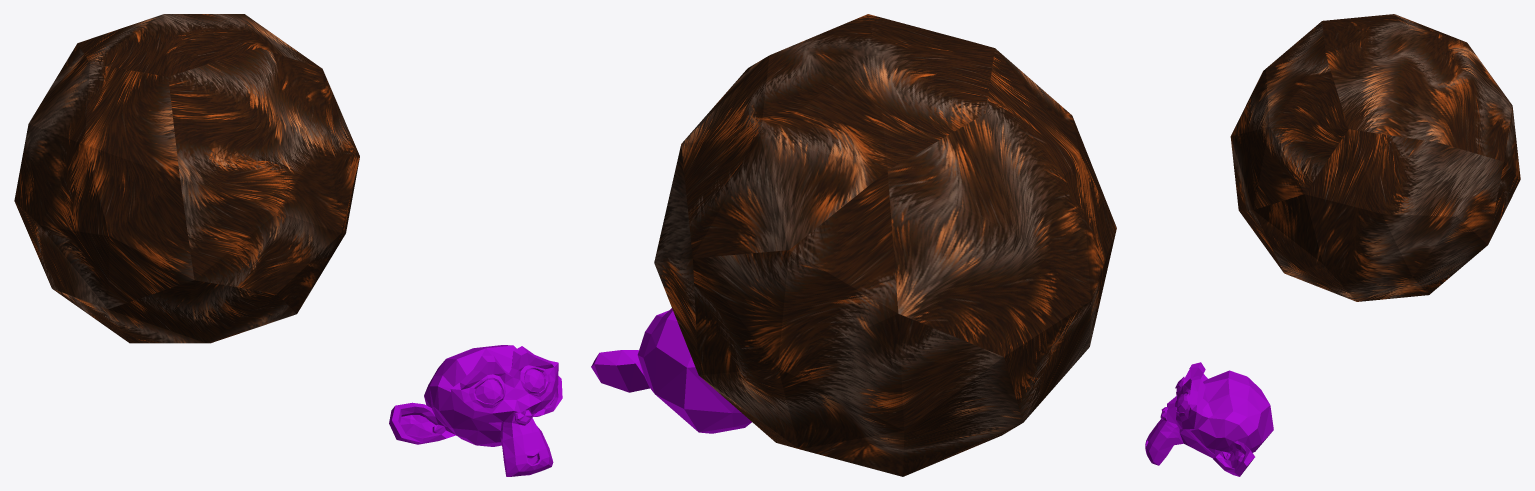
The model's file is ball_09.dae.
The picture shows the model from 3 angles, left to right: view 1: azimuth 30°, elevation 25°; view 2: azimuth 150°, elevation 25°; view 3: azimuth 270°, elevation 25°; orthographic projection. The views are drawn at different scales.
Parts seen in each view (by area): view 1: Icosphere, Suzanne; view 2: Icosphere, Suzanne; view 3: Icosphere, Suzanne.
Boxes of the visible parts, left/top/right/bottom form: Icosphere: left=14, top=14, right=359, bottom=343; Suzanne: left=389, top=345, right=562, bottom=476; Icosphere: left=654, top=14, right=1116, bottom=476; Suzanne: left=591, top=308, right=751, bottom=433; Icosphere: left=1230, top=14, right=1520, bottom=301; Suzanne: left=1145, top=362, right=1273, bottom=476.
Size of the model in its own units: 2.97 by 2.55 by 2.58.
